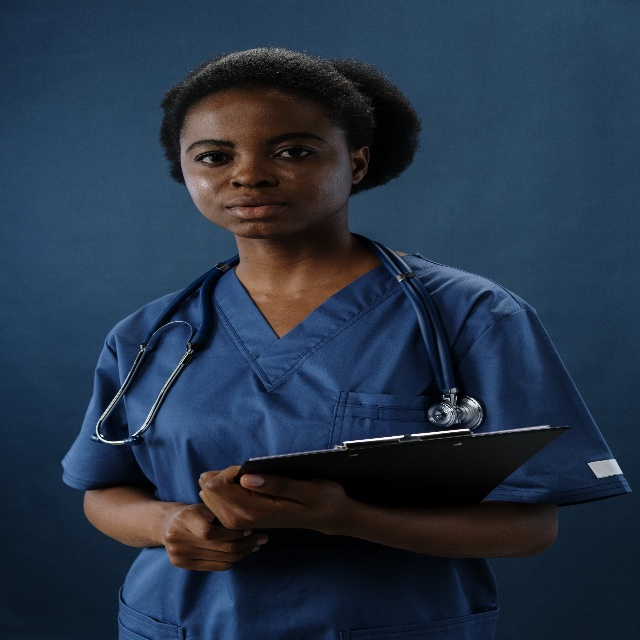Sin_guantes: (195, 459, 351, 548), (168, 497, 268, 569)
